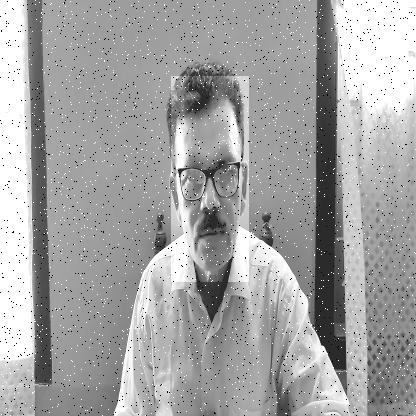Normal: (171, 76, 249, 282)
